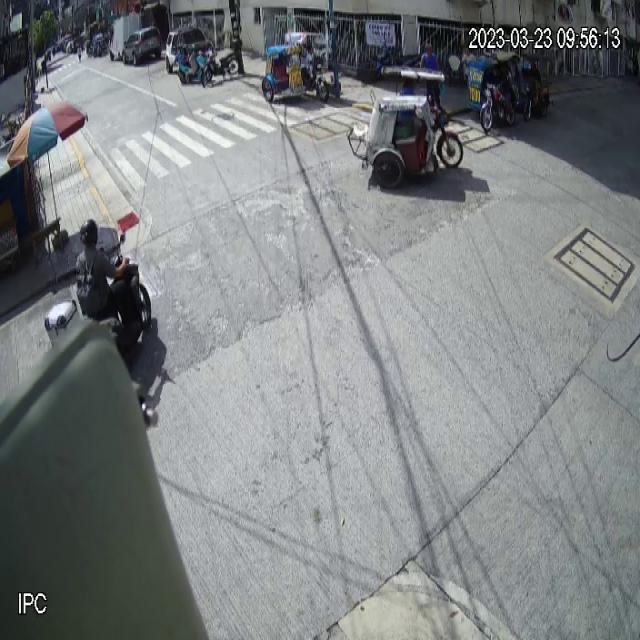Tricycle: (347, 65, 465, 188), (261, 31, 331, 103)
